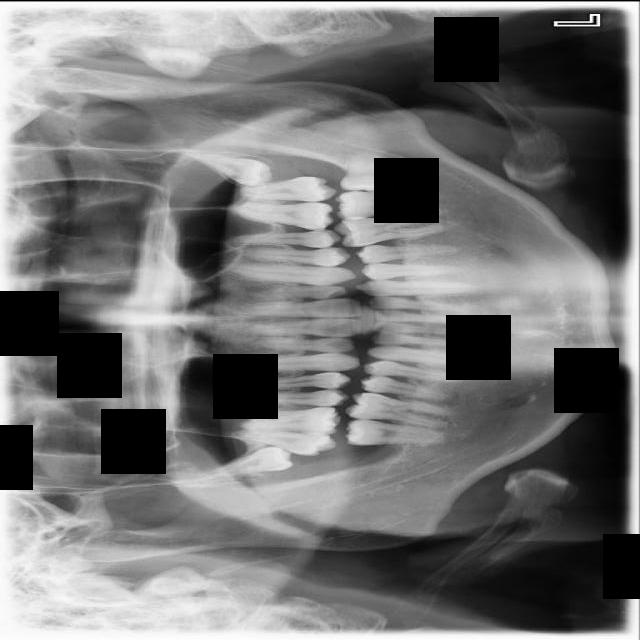3M ESPE Implant: (210, 443, 294, 479)
73: (585, 22, 605, 31)
BioHorizons Implant: (240, 175, 337, 201)
BioLife Implant: (194, 151, 273, 187)
Biomet 3i Implant: (339, 149, 404, 194)
Blue Sky Bio Implant: (333, 181, 437, 220)
Caries: (232, 429, 336, 456)
Implant: (344, 417, 445, 444)
